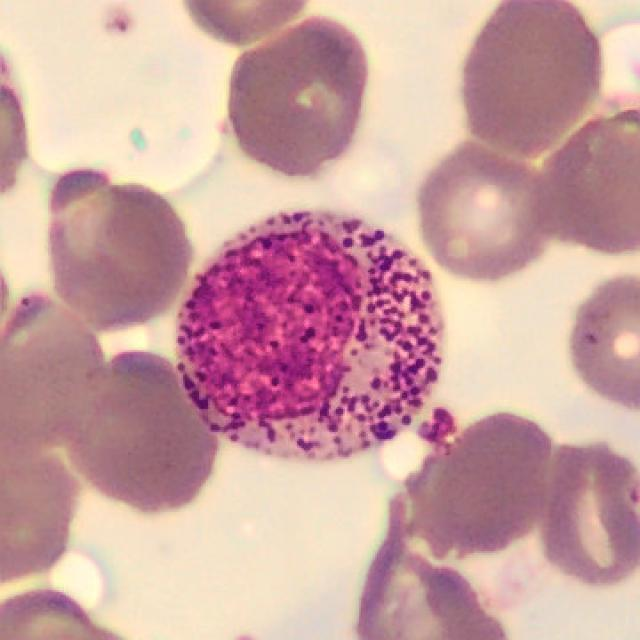Promielocito: (174, 212, 446, 462)
